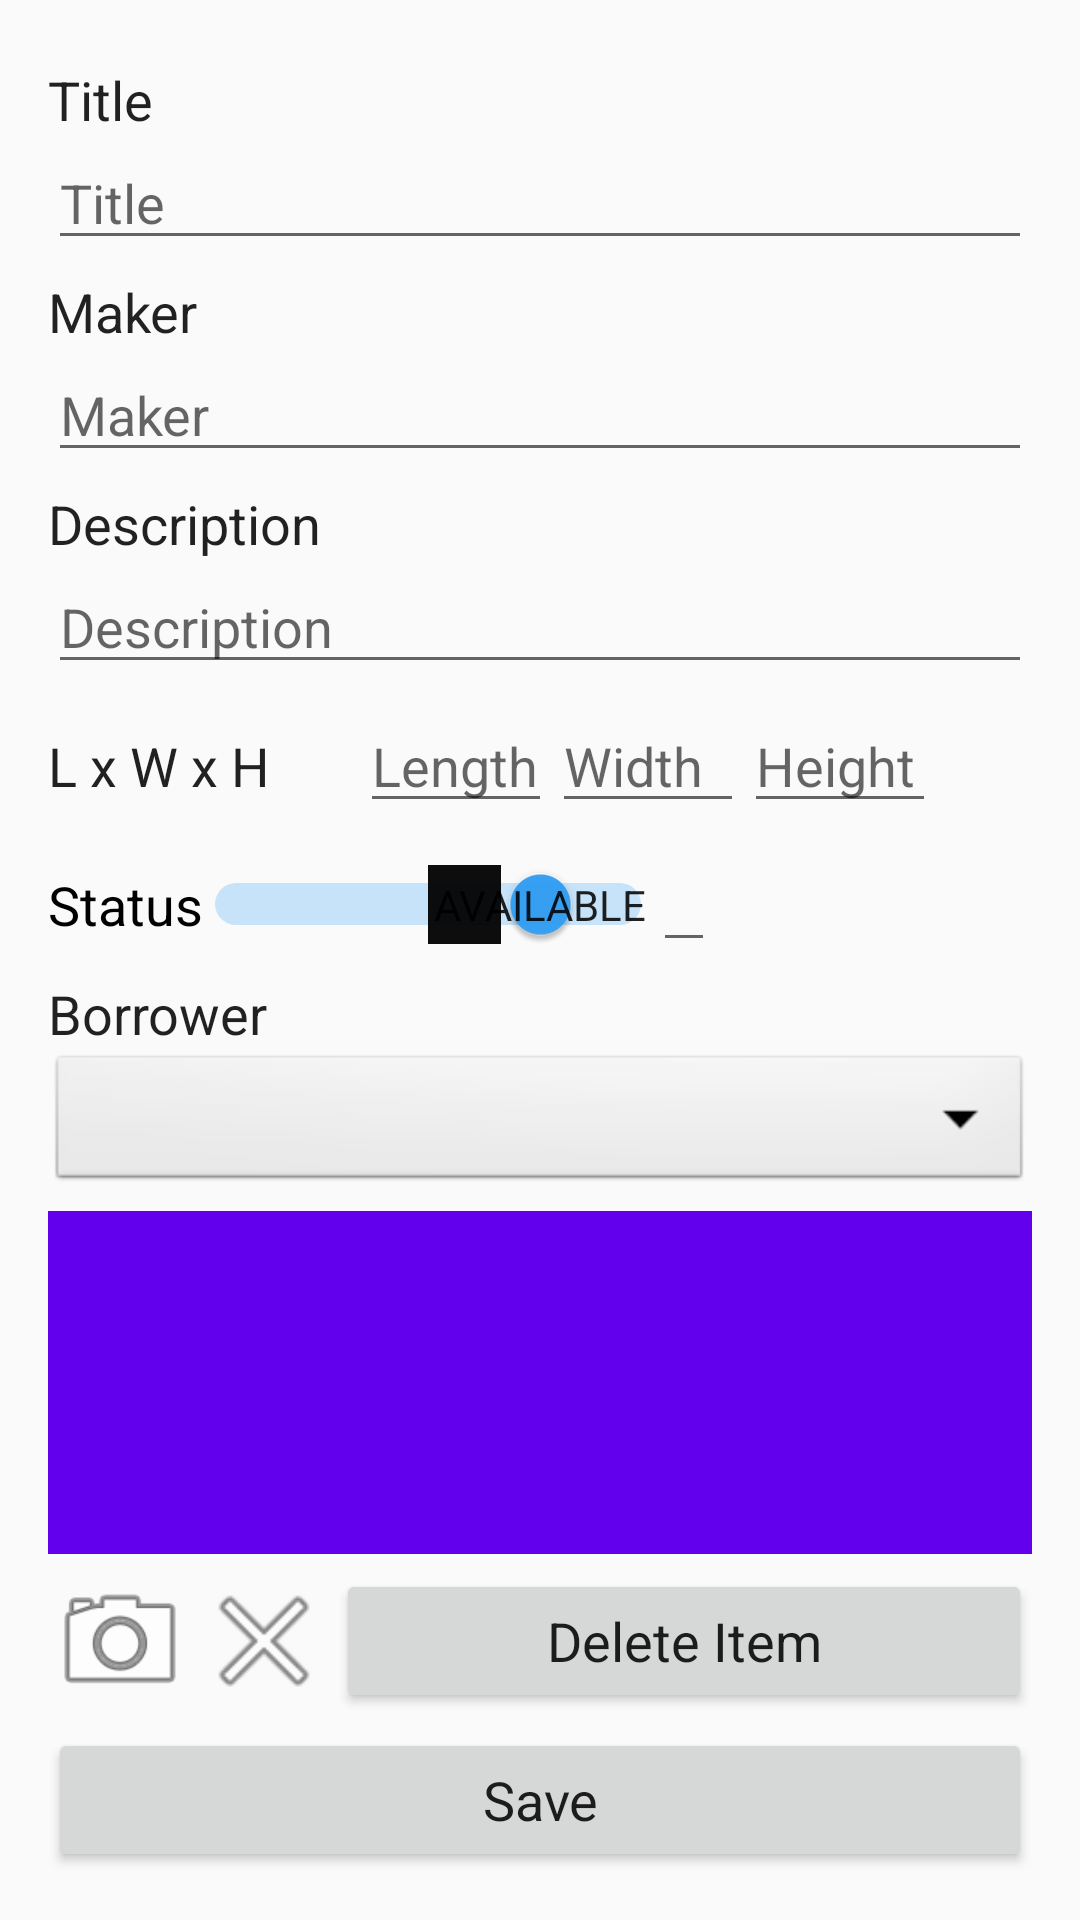

Where to tap for icons on this 1080px x 1920px app screen, as point (x, y):
camera: point (120, 1638)
close clear cancel: point (264, 1641)
